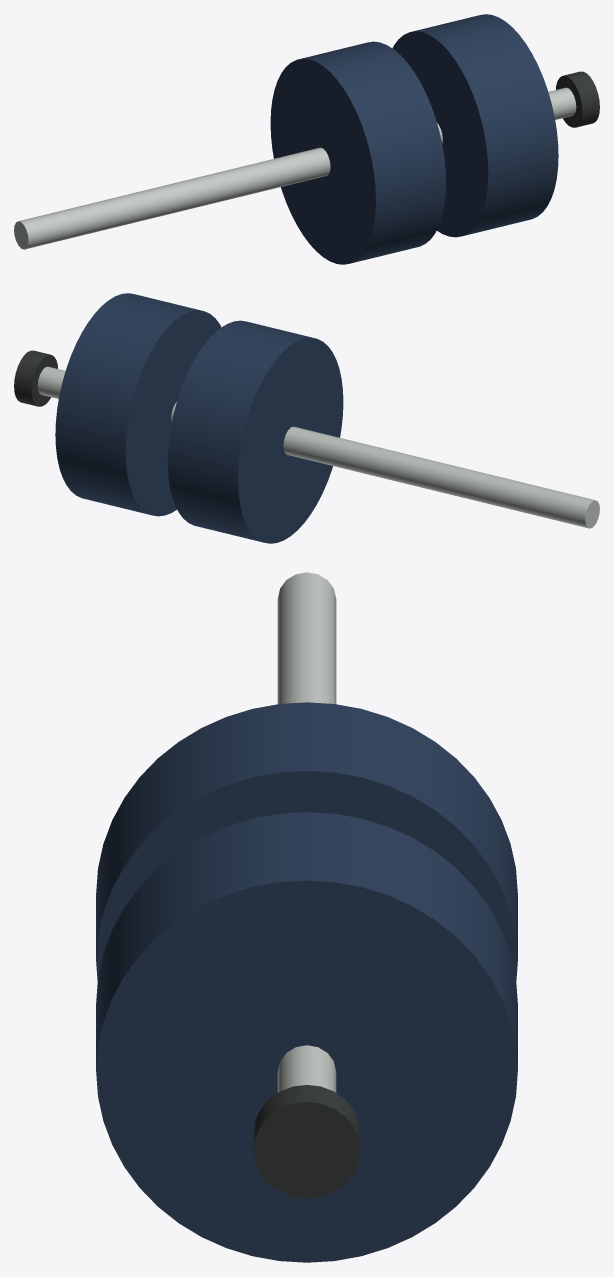
Rendered from planetarium-and-optical-observatory-counterweight-asse-d70ff305__31849.glb.
The picture shows the model from 3 angles, top to bottom: view 1: azimuth 30°, elevation 25°; view 2: azimuth 150°, elevation 25°; view 3: azimuth 270°, elevation 25°; orthographic projection. The views are drawn at different scales.
Visible parts, largest first — view 1: counterweight-assembly; view 2: counterweight-assembly; view 3: counterweight-assembly.
Boxes of the visible parts, x1,y1,x2,y2 form: counterweight-assembly: (14,14,599,264); counterweight-assembly: (14,293,599,543); counterweight-assembly: (96,572,517,1262).
Bounding box in the file's own units: 0.805 × 0.26 × 0.26.
